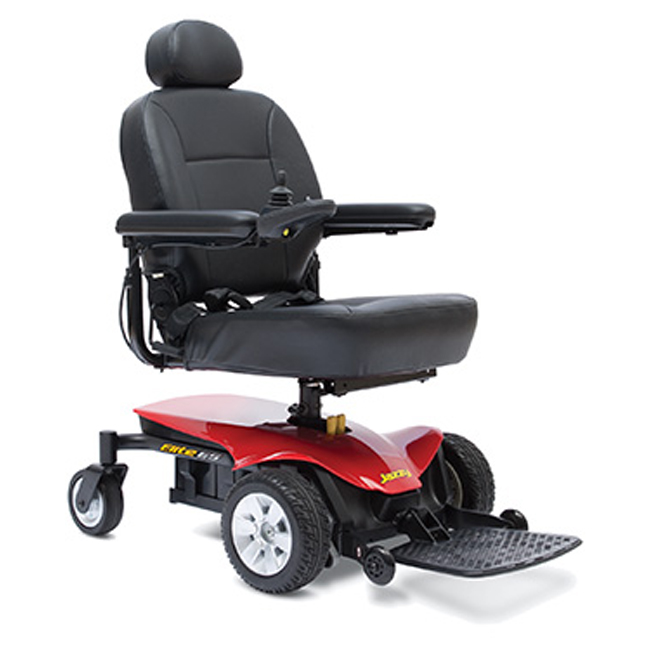wheelchair: (43, 13, 575, 616)
